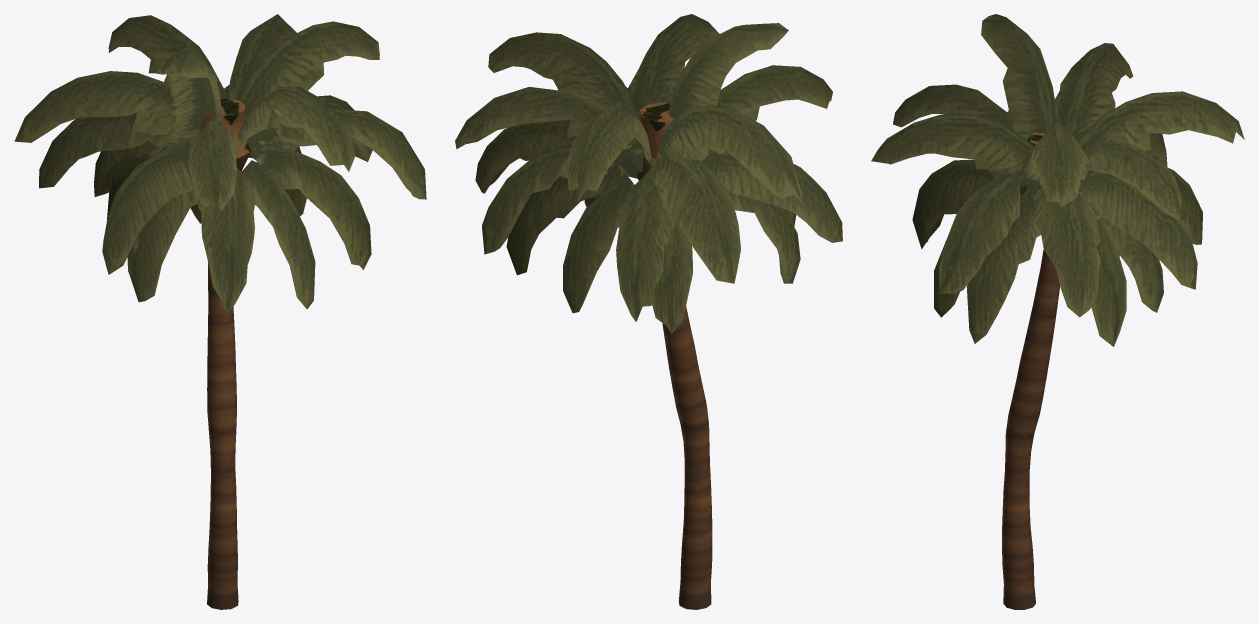
File: palm_a.glb
3 views of the same model, side by side, from view 1: azimuth 30°, elevation 25°; view 2: azimuth 150°, elevation 25°; view 3: azimuth 270°, elevation 25° (orthographic). The views are drawn at different scales.
Visible parts, largest first — view 1: body; view 2: body; view 3: body.
Boxes of the visible parts, x1=… form: body: x1=14, y1=14, x2=426, y2=609; body: x1=455, y1=14, x2=842, y2=609; body: x1=871, y1=14, x2=1244, y2=609.
Bounding box in the file's own units: 5.39 × 8.67 × 5.25.
2 materials, 2 textured.
